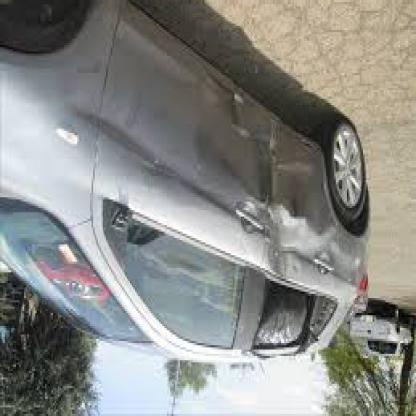dent: (247, 140, 302, 254)
